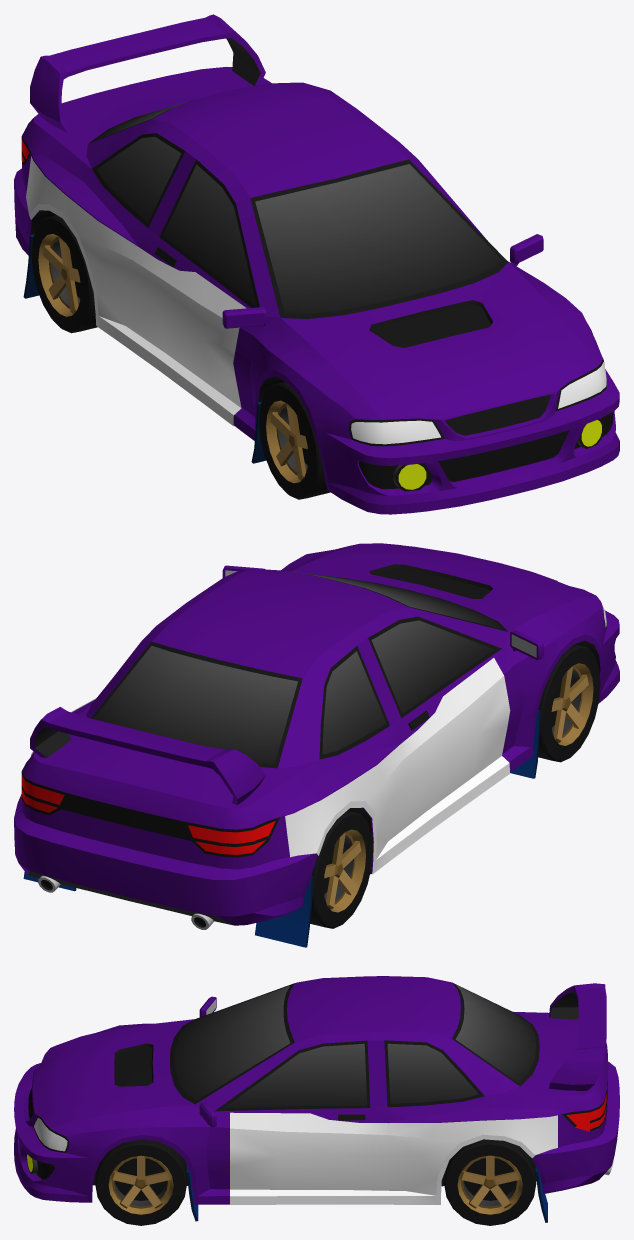
The model's file is Car_A.fbx.
3 renders of one model, top to bottom at view 1: azimuth 30°, elevation 25°; view 2: azimuth 150°, elevation 25°; view 3: azimuth 270°, elevation 25°, orthographic. The views are drawn at different scales.
Parts seen in each view (by area): view 1: Body, polySurface2, Spoiler, FrontRightWheel, RearRightWheel, MudFlaps; view 2: Body, polySurface2, Spoiler, FrontRightWheel, RearRightWheel, MudFlaps; view 3: Body, polySurface1, RearLeftWheel, FrontLeftWheel, Spoiler, MudFlaps.
Boxes of the visible parts, x1,y1,x2,y2 form: Body: (14, 67, 619, 514); polySurface2: (26, 156, 246, 425); Spoiler: (30, 14, 265, 132); FrontRightWheel: (259, 381, 330, 499); RearRightWheel: (31, 215, 97, 333); MudFlaps: (23, 234, 266, 463); Body: (14, 543, 619, 929); polySurface2: (285, 658, 510, 874); Spoiler: (30, 707, 265, 804); FrontRightWheel: (538, 644, 600, 762); RearRightWheel: (310, 810, 372, 928); MudFlaps: (23, 710, 540, 947); Body: (14, 976, 619, 1204); polySurface1: (230, 1112, 557, 1204); RearLeftWheel: (444, 1139, 536, 1225); FrontLeftWheel: (95, 1139, 186, 1225); Spoiler: (549, 983, 606, 1090); MudFlaps: (186, 1165, 547, 1222).
Size of the model in its own units: 226 by 152 by 485.
Materials: 6 (6 with a texture image).
